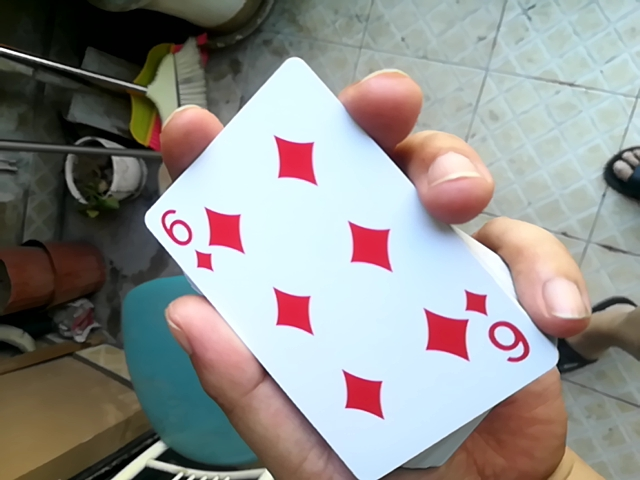fk 6: (134, 52, 552, 480)
